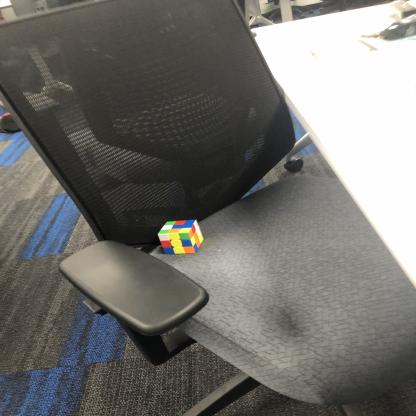UnsolvedCube: (155, 219, 204, 254)
